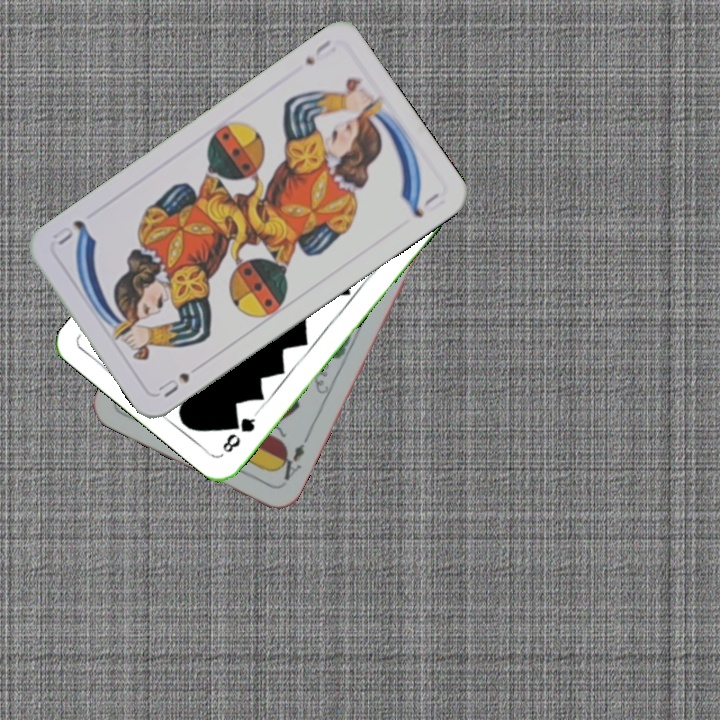EA: (272, 433, 311, 484)
G8: (218, 408, 260, 456)
SU: (301, 35, 339, 68), (154, 368, 193, 400)
